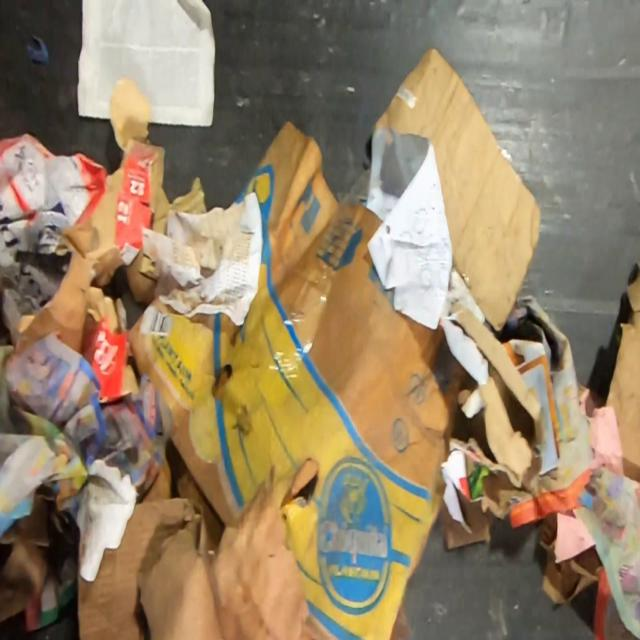cardboard: (127, 119, 482, 640), (18, 137, 208, 406), (373, 46, 543, 334), (75, 439, 312, 640), (440, 299, 564, 521), (0, 131, 107, 346), (0, 481, 78, 626), (604, 271, 640, 484), (538, 512, 604, 608), (441, 484, 496, 552)
